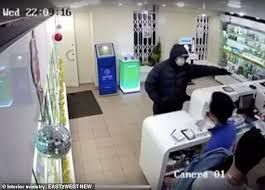gun: (213, 54, 236, 85)
